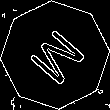M_SE: (21, 21, 89, 89)
